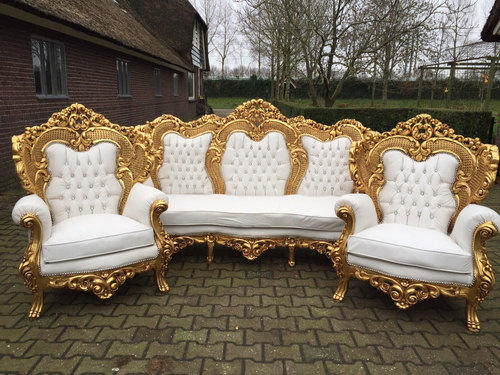chairs: (120, 99, 374, 276), (332, 105, 500, 334), (8, 102, 179, 319)
